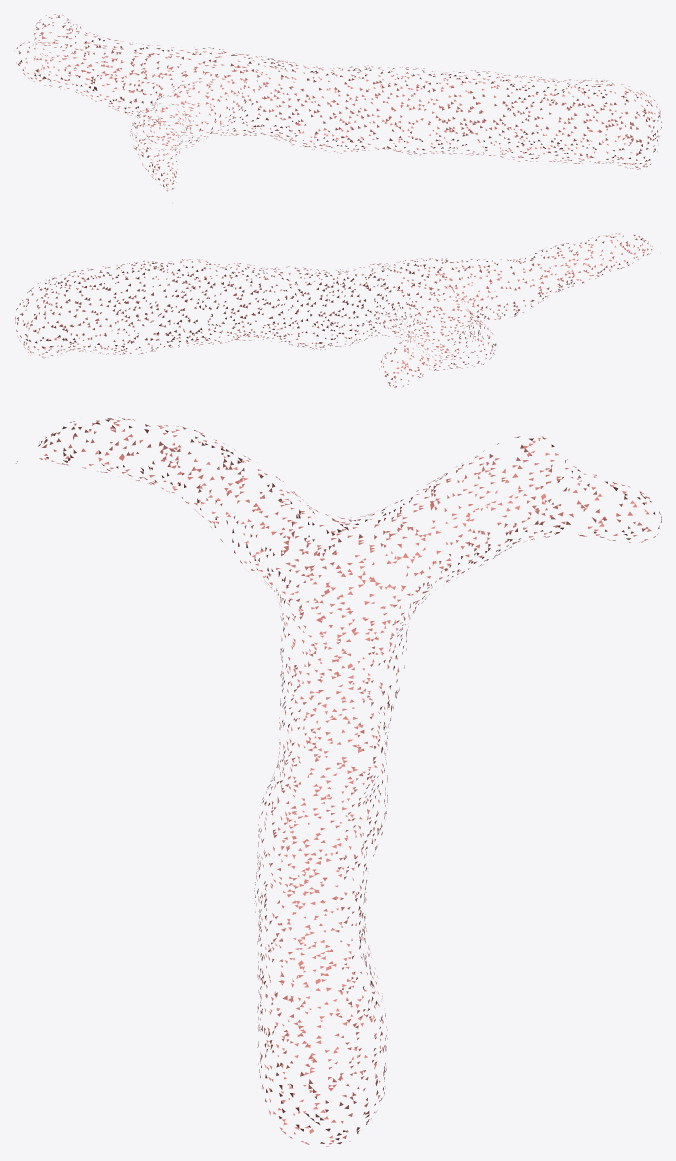
Rendered from morph_001.glb.
The picture shows the model from 3 angles, top to bottom: view 1: azimuth 30°, elevation 25°; view 2: azimuth 150°, elevation 25°; view 3: azimuth 270°, elevation 25°; orthographic projection. The views are drawn at different scales.
Size of the model in its own units: 140 by 48.24 by 88.37.
